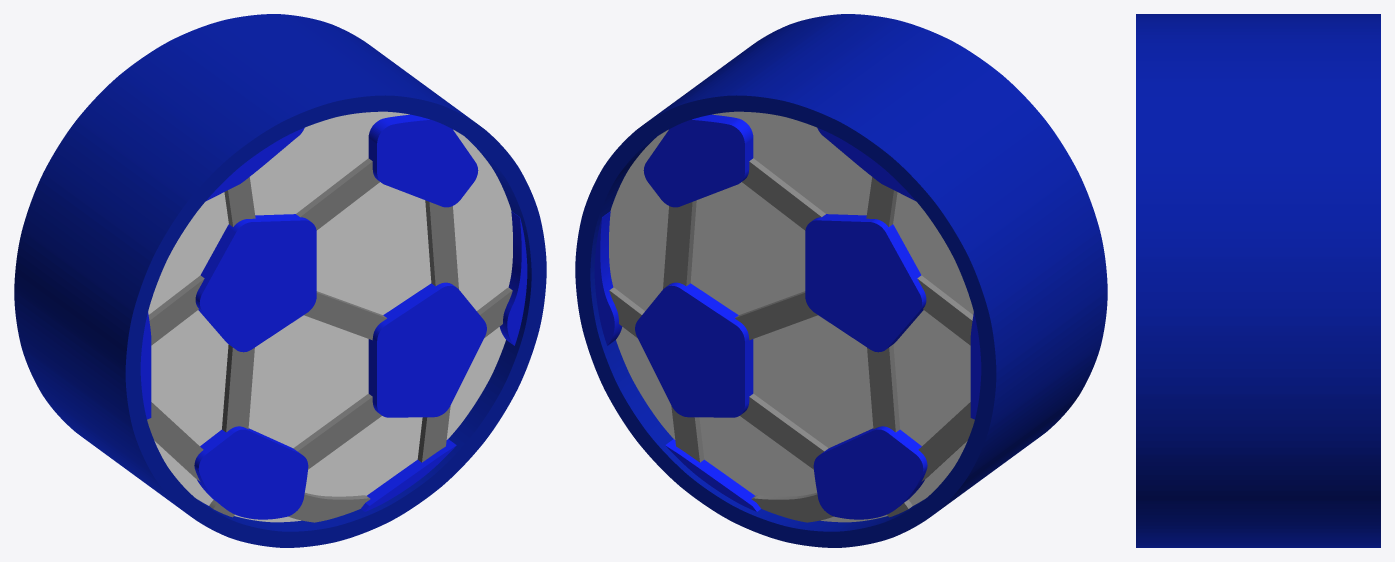
3 renders of one model, left to right at view 1: azimuth 30°, elevation 25°; view 2: azimuth 150°, elevation 25°; view 3: azimuth 270°, elevation 25°, orthographic. The views are drawn at different scales.
Visible parts, largest first — view 1: U+26BD_layer03_obj00, U+26BD_layer00_obj00, U+26BD_layer02_obj00, U+26BD_layer01_obj00; view 2: U+26BD_layer03_obj00, U+26BD_layer00_obj00, U+26BD_layer02_obj00, U+26BD_layer01_obj00; view 3: U+26BD_layer03_obj00.
Boxes of the visible parts, left/top/right/bottom form: U+26BD_layer03_obj00: left=14, top=14, right=546, bottom=547; U+26BD_layer00_obj00: left=148, top=111, right=512, bottom=522; U+26BD_layer02_obj00: left=140, top=114, right=527, bottom=519; U+26BD_layer01_obj00: left=147, top=158, right=512, bottom=522; U+26BD_layer03_obj00: left=575, top=14, right=1107, bottom=547; U+26BD_layer00_obj00: left=609, top=111, right=973, bottom=522; U+26BD_layer02_obj00: left=594, top=114, right=981, bottom=519; U+26BD_layer01_obj00: left=609, top=158, right=974, bottom=522; U+26BD_layer03_obj00: left=1136, top=14, right=1380, bottom=547.
Bounding box in the file's own units: 0.5678 × 0.5677 × 0.26.
